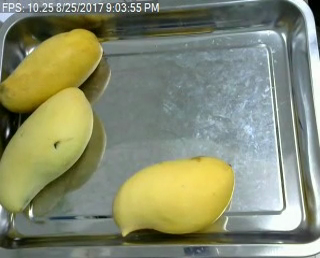Mango: (0, 84, 98, 215), (109, 156, 236, 236), (0, 28, 105, 116)
